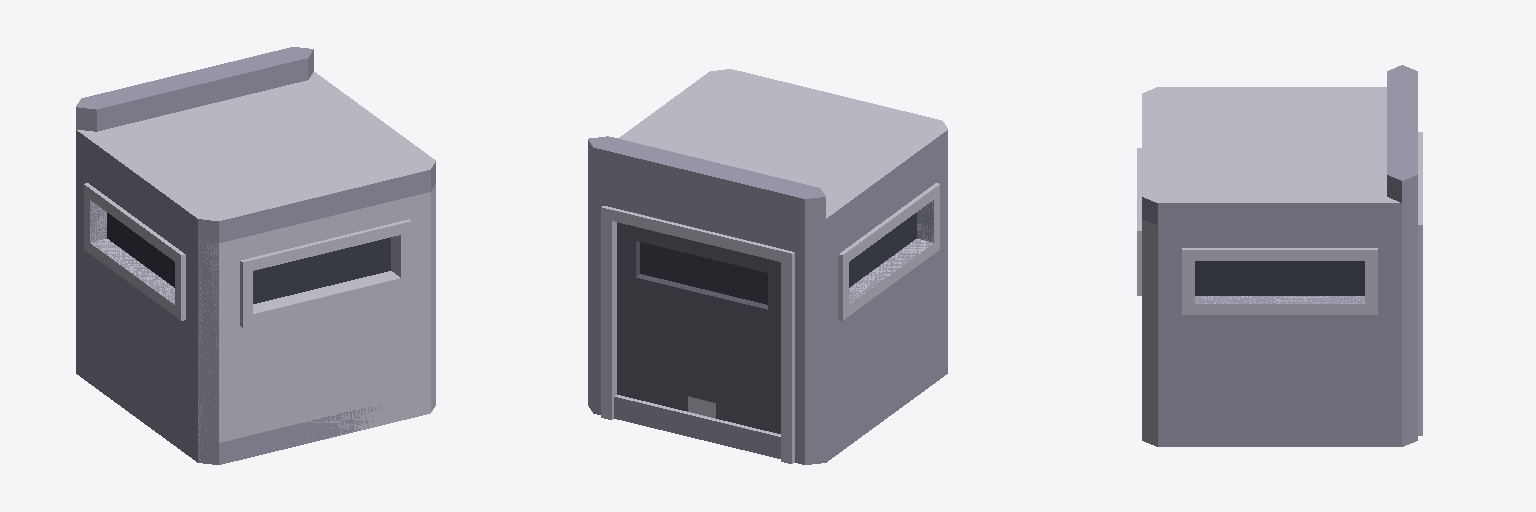
File: Level3.obj
3 renders of one model, left to right at view 1: azimuth 30°, elevation 25°; view 2: azimuth 150°, elevation 25°; view 3: azimuth 270°, elevation 25°, orthographic.
Parts seen in each view (by area): view 1: wall_windowFactory_11, roof_side_12, wall_windowFactory_10, roof_square_8; view 2: wall_garageDoorClosed_13, roof_side_12, wall_windowFactory_10, roof_square_8, wall_windowFactory_9; view 3: wall_windowFactory_9, roof_side_12, roof_square_8, wall_windowFactory_11, wall_garageDoorClosed_13.
Part boxes in pixels (x1,y1,x2,y2): wall_windowFactory_11: (198, 184, 435, 461); roof_side_12: (76, 47, 435, 242); wall_windowFactory_10: (76, 152, 218, 464); roof_square_8: (76, 352, 380, 464); wall_garageDoorClosed_13: (593, 192, 825, 464); roof_side_12: (588, 69, 947, 242); wall_windowFactory_10: (805, 152, 947, 462); roof_square_8: (588, 353, 947, 463); wall_windowFactory_9: (588, 184, 592, 410); wall_windowFactory_9: (1158, 219, 1417, 446); roof_side_12: (1142, 65, 1417, 224); roof_square_8: (1158, 419, 1417, 446); wall_windowFactory_11: (1137, 148, 1157, 446); wall_garageDoorClosed_13: (1412, 132, 1422, 435).
Size of the model in its own units: 1.17 by 1.2 by 1.17.